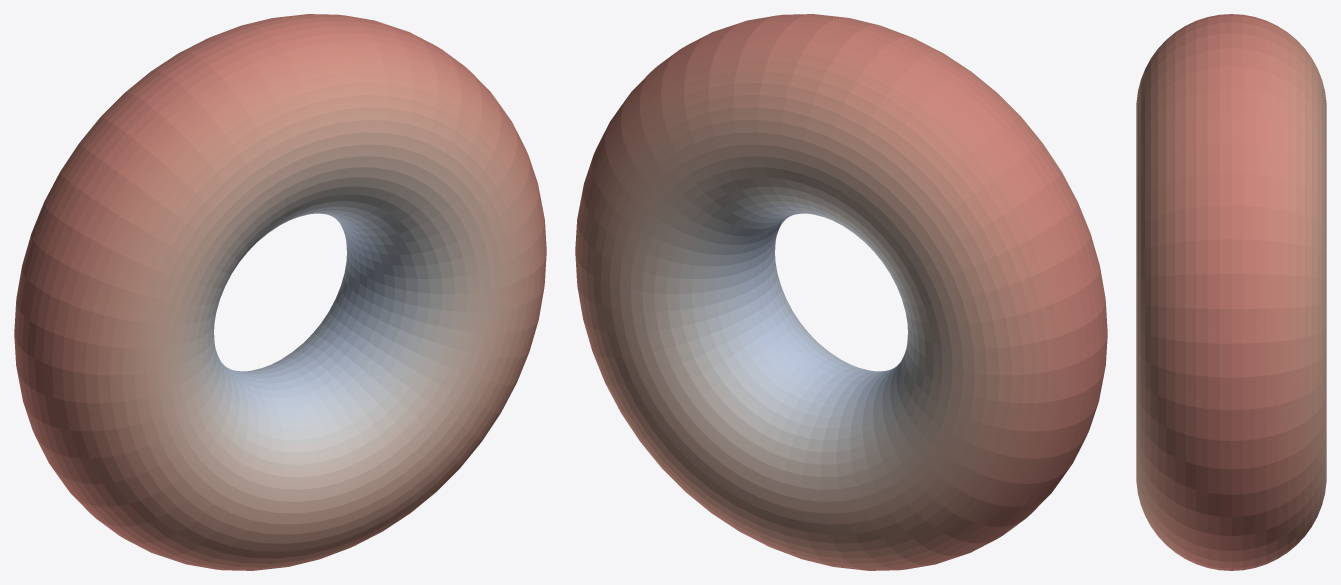
3 views of the same model, side by side, from view 1: azimuth 30°, elevation 25°; view 2: azimuth 150°, elevation 25°; view 3: azimuth 270°, elevation 25° (orthographic). The views are drawn at different scales.
Parts seen in each view (by area): view 1: world; view 2: world; view 3: world.
Part boxes in pixels (x1=…): world: x1=14, y1=14, x2=546, y2=570; world: x1=575, y1=14, x2=1107, y2=570; world: x1=1136, y1=14, x2=1326, y2=570.
Size of the model in its own units: 25.33 by 25.28 by 8.65.
